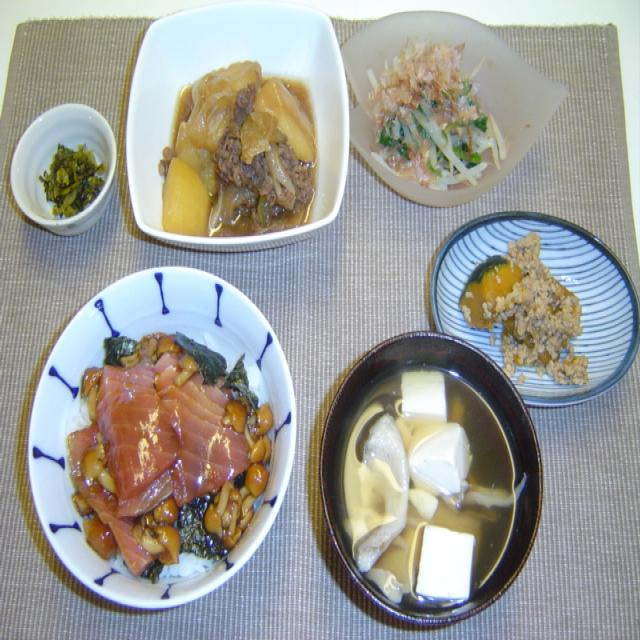刺身生食: (20, 275, 278, 597)
汤锅炖物: (318, 342, 524, 614)
牛肉菜式: (136, 19, 334, 253)
